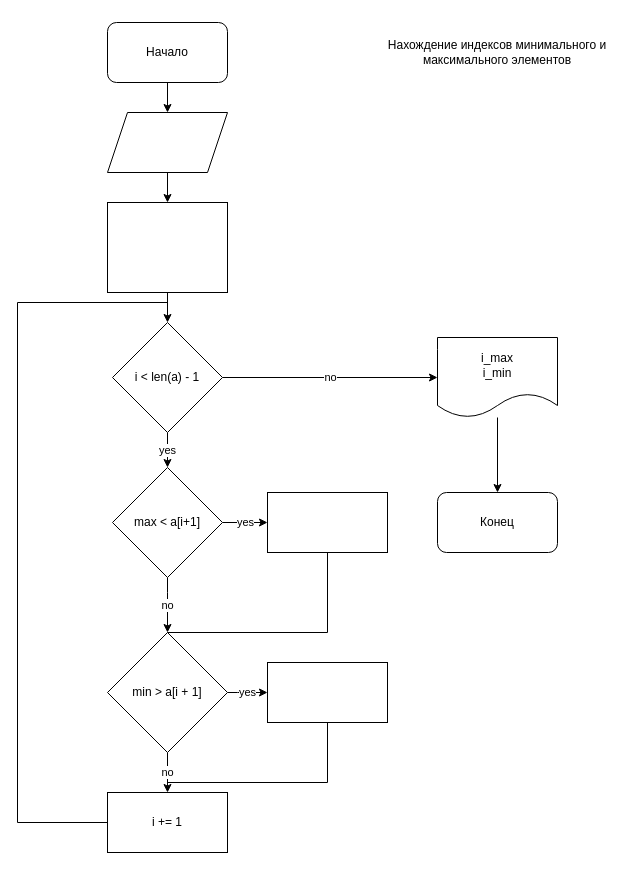
Some shapes in this 640 by 870 pixel diagram are drawn without their labels. Each missing label, with the centre of its shape:
"a # array" goes at (x=167, y=142).
"max = a[0] min = a[0] i_max = 0 I_min = 0 i = 0" goes at (x=167, y=247).
"max = a[i+1] i_max = i + 1" goes at (x=327, y=522).
"min = a[i+1] i_min = i + 1" goes at (x=327, y=692).
